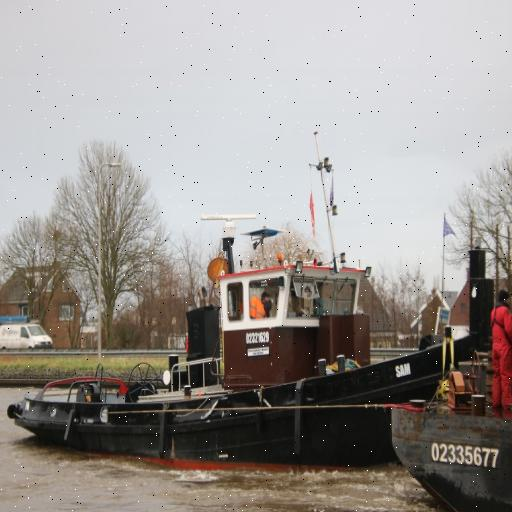tugboat: (5, 210, 499, 486)
